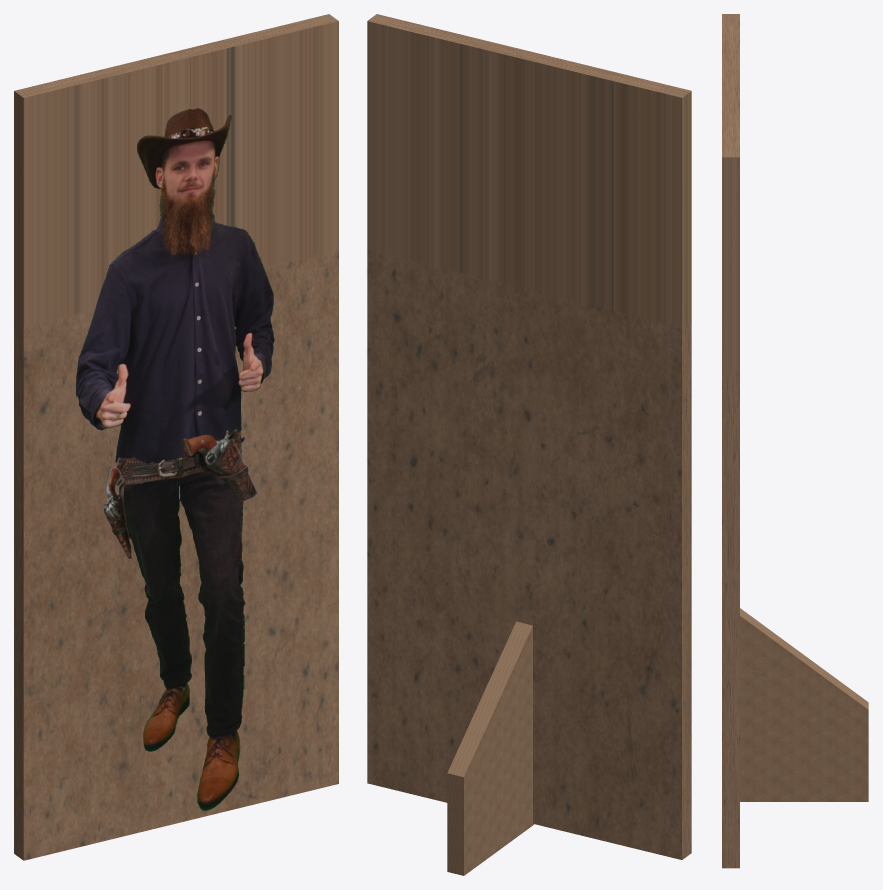
The picture shows the model from 3 angles, left to right: view 1: azimuth 30°, elevation 25°; view 2: azimuth 150°, elevation 25°; view 3: azimuth 270°, elevation 25°; orthographic projection. The views are drawn at different scales.
Parts seen in each view (by area): view 1: Cube, 2-shoot; view 2: Cube, Cube.001; view 3: Cube.001, Cube.
Part boxes in pixels (<box>): Cube: <box>14,14,338,860</box>; 2-shoot: <box>75,108,300,810</box>; Cube: <box>367,14,691,859</box>; Cube.001: <box>447,621,533,875</box>; Cube.001: <box>740,608,868,801</box>; Cube: <box>722,14,739,868</box>.
Bounding box in the file's own units: 568 × 1349 × 248.
